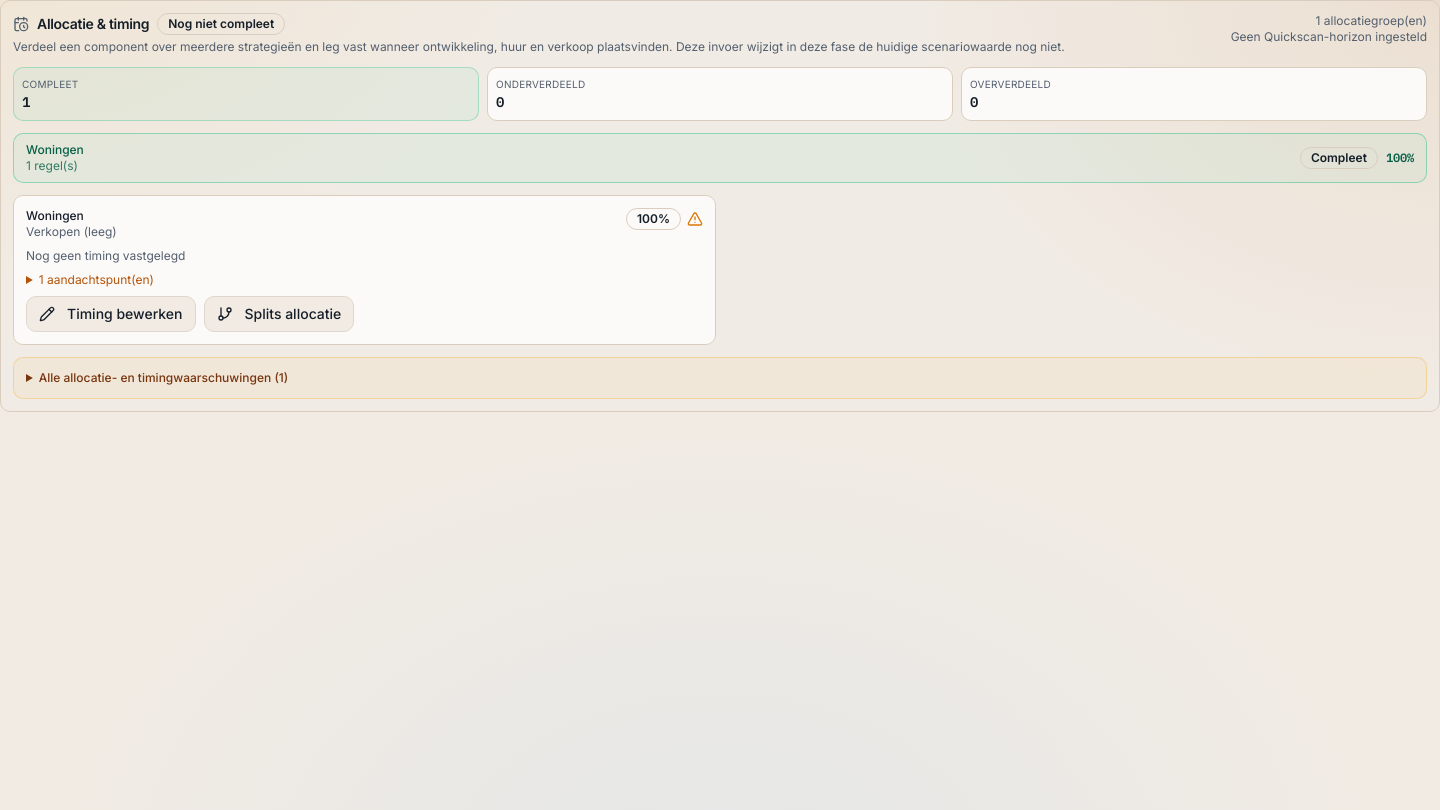
it: ComponentAllocationTimingWorkspace › splitst pas na bevestiging en maakt daarna het tweede deel aan
Later steps or results of the test are not shown.
Click the button "Splits allocatie": (279, 314) left=204, top=296, right=354, bottom=332
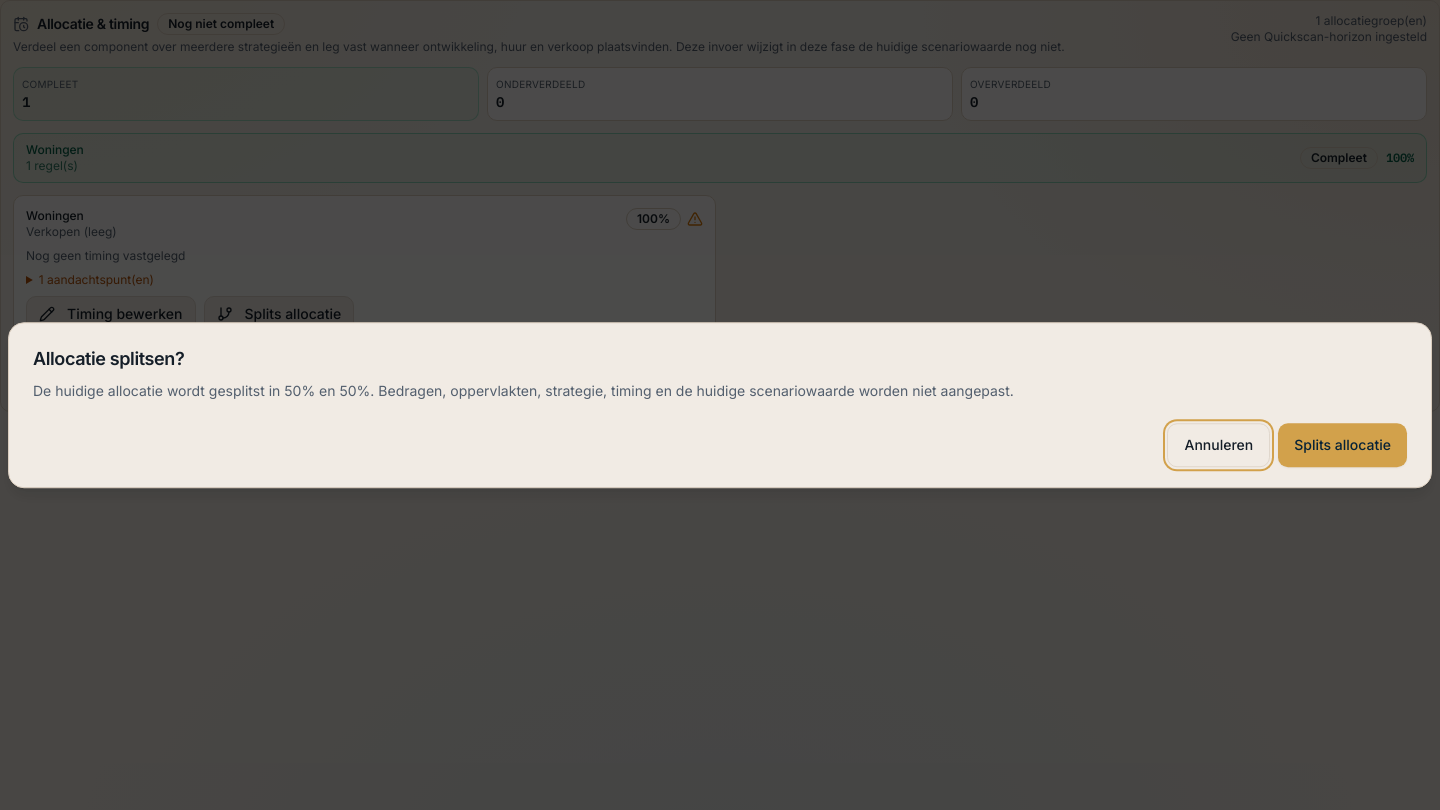
Expected: the text "50% en 50%" is shown, left=33, top=382, right=1014, bottom=399
